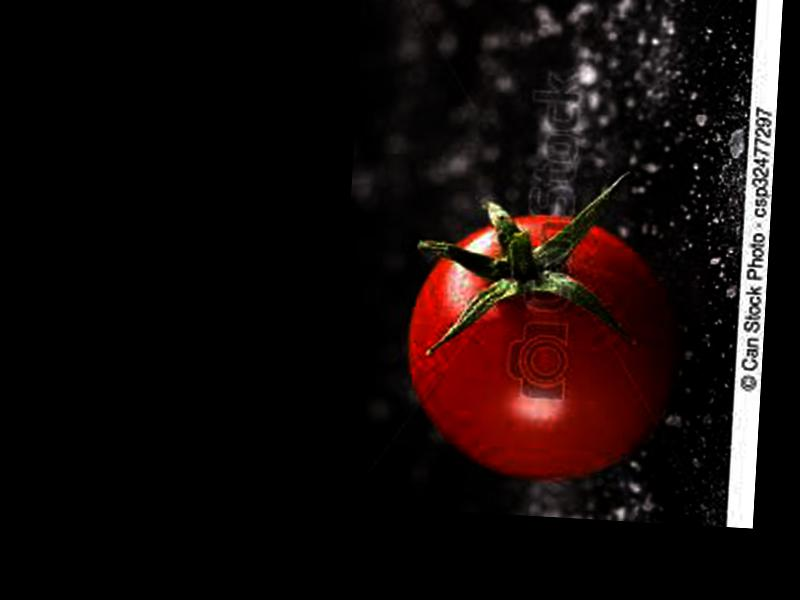Tomato: (400, 207, 683, 487)
